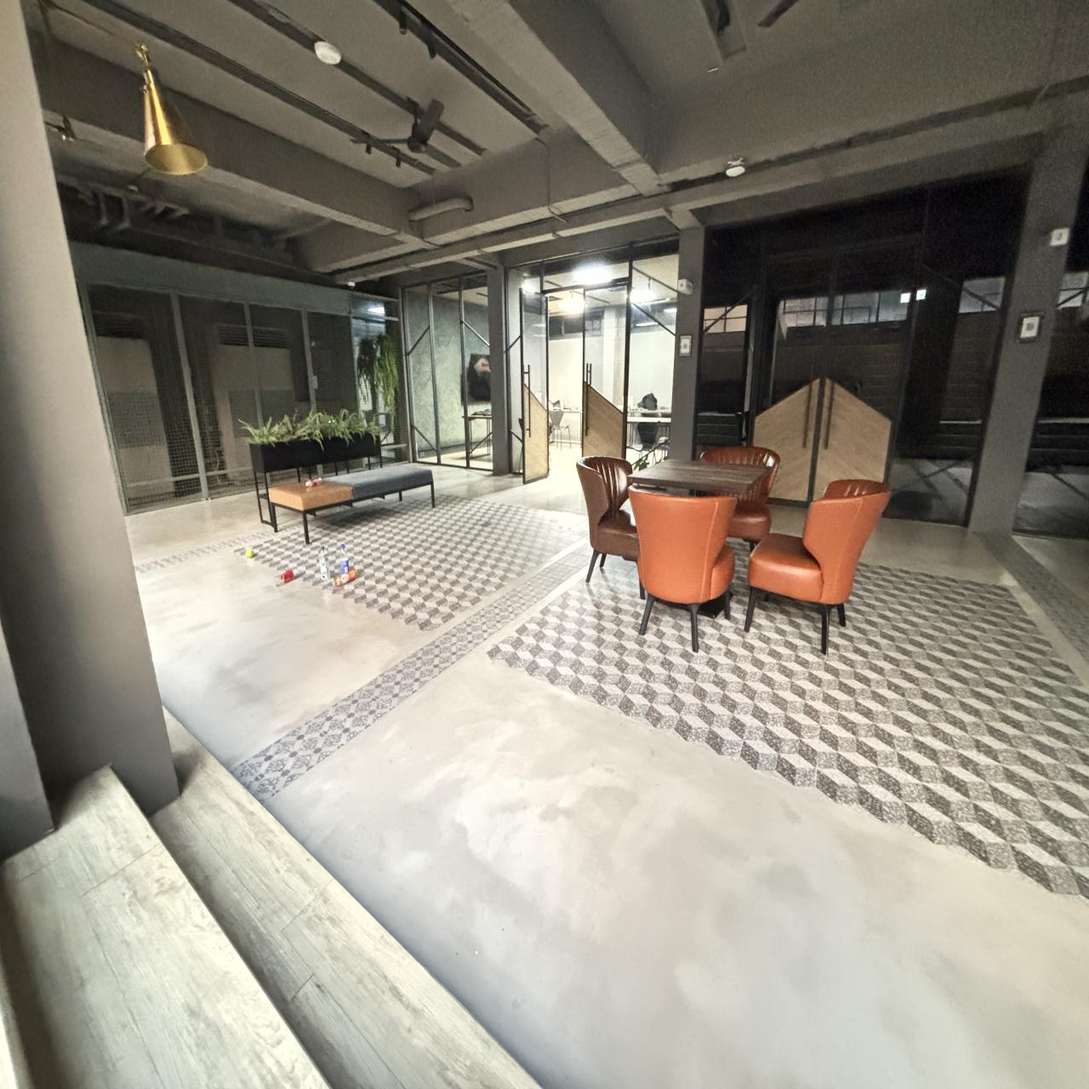plastic-bottle: (319, 546, 330, 581), (340, 543, 349, 580)
tennisball: (246, 549, 254, 558)
